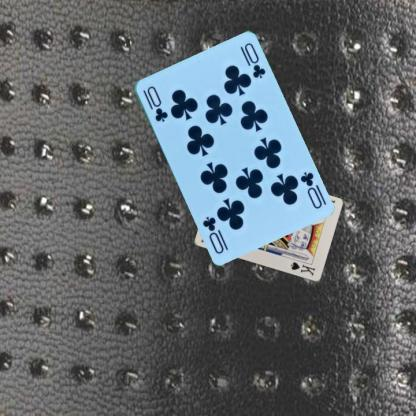10c: (140, 83, 169, 123), (297, 169, 323, 210)
